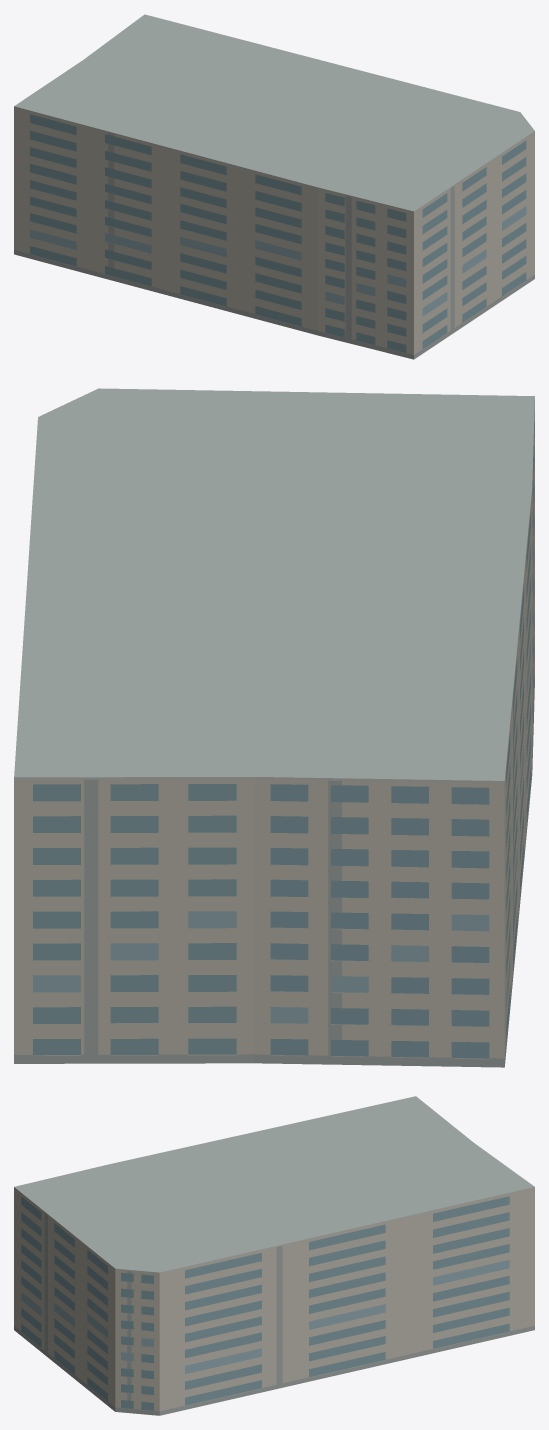
File: residential-87f7d396-2e35-48c6-a6fc-c3b4dd3fe058.glb
The picture shows the model from 3 angles, top to bottom: view 1: azimuth 30°, elevation 25°; view 2: azimuth 150°, elevation 25°; view 3: azimuth 270°, elevation 25°; orthographic projection. The views are drawn at different scales.
Parts seen in each view (by area): view 1: residential-87f7d396-2e35-48c6-a6fc-c3b4dd3fe058.tmp; view 2: residential-87f7d396-2e35-48c6-a6fc-c3b4dd3fe058.tmp; view 3: residential-87f7d396-2e35-48c6-a6fc-c3b4dd3fe058.tmp.
Boxes of the visible parts, x1=… form: residential-87f7d396-2e35-48c6-a6fc-c3b4dd3fe058.tmp: x1=14, y1=14, x2=534, y2=359; residential-87f7d396-2e35-48c6-a6fc-c3b4dd3fe058.tmp: x1=14, y1=388, x2=534, y2=1067; residential-87f7d396-2e35-48c6-a6fc-c3b4dd3fe058.tmp: x1=14, y1=1096, x2=534, y2=1415.
Bounding box in the file's own units: 72.5 × 27.45 × 90.47.
